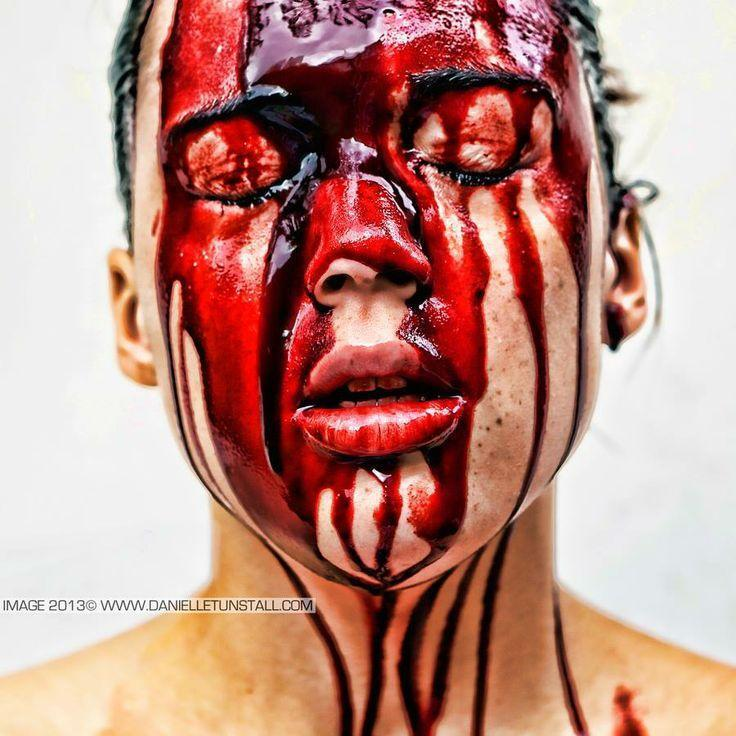Fire: (158, 0, 593, 736), (556, 584, 590, 736), (614, 687, 650, 736)
